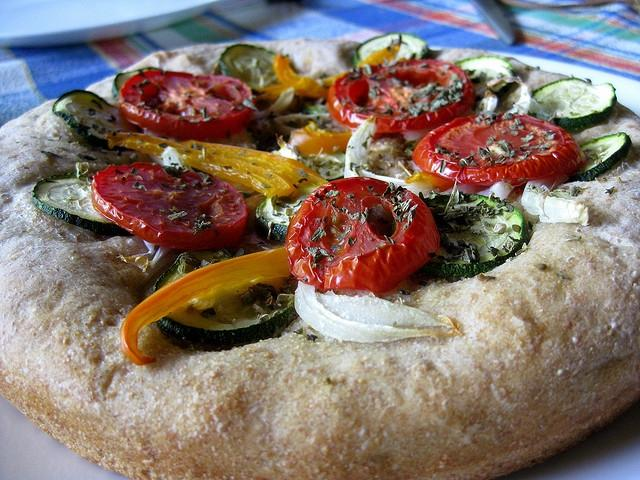cucumber: (147, 246, 300, 352), (416, 180, 530, 278), (32, 172, 135, 236), (512, 78, 617, 132), (52, 90, 141, 147), (253, 184, 320, 243), (565, 133, 632, 184), (454, 56, 516, 110), (220, 43, 284, 87), (354, 32, 431, 66)
onion: (294, 280, 456, 344), (472, 76, 530, 114), (344, 115, 376, 178), (362, 170, 432, 198), (540, 196, 590, 226), (478, 181, 514, 201), (162, 146, 186, 168), (478, 97, 498, 117)
tomato: (91, 162, 250, 250), (412, 113, 586, 186), (326, 60, 475, 132), (118, 70, 258, 142)
